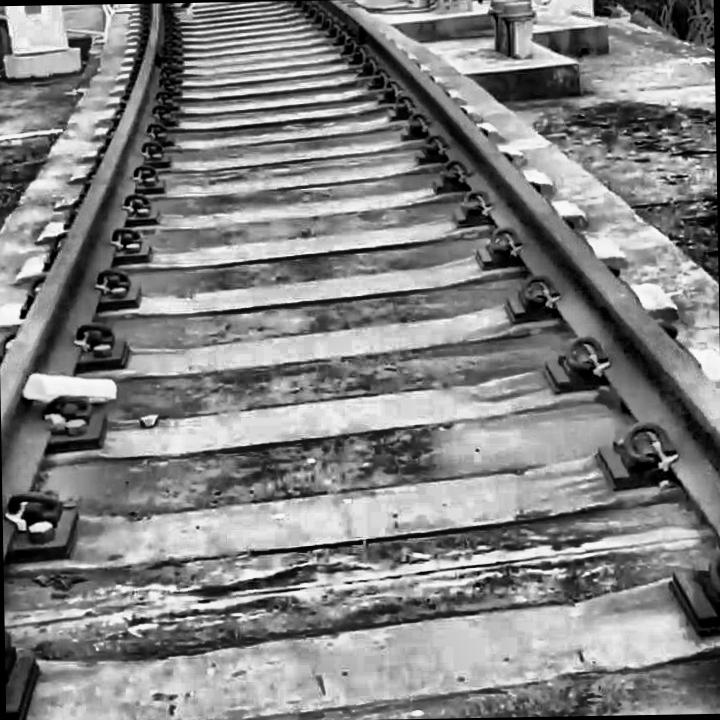Trash: (12, 342, 136, 433), (162, 3, 203, 26)
